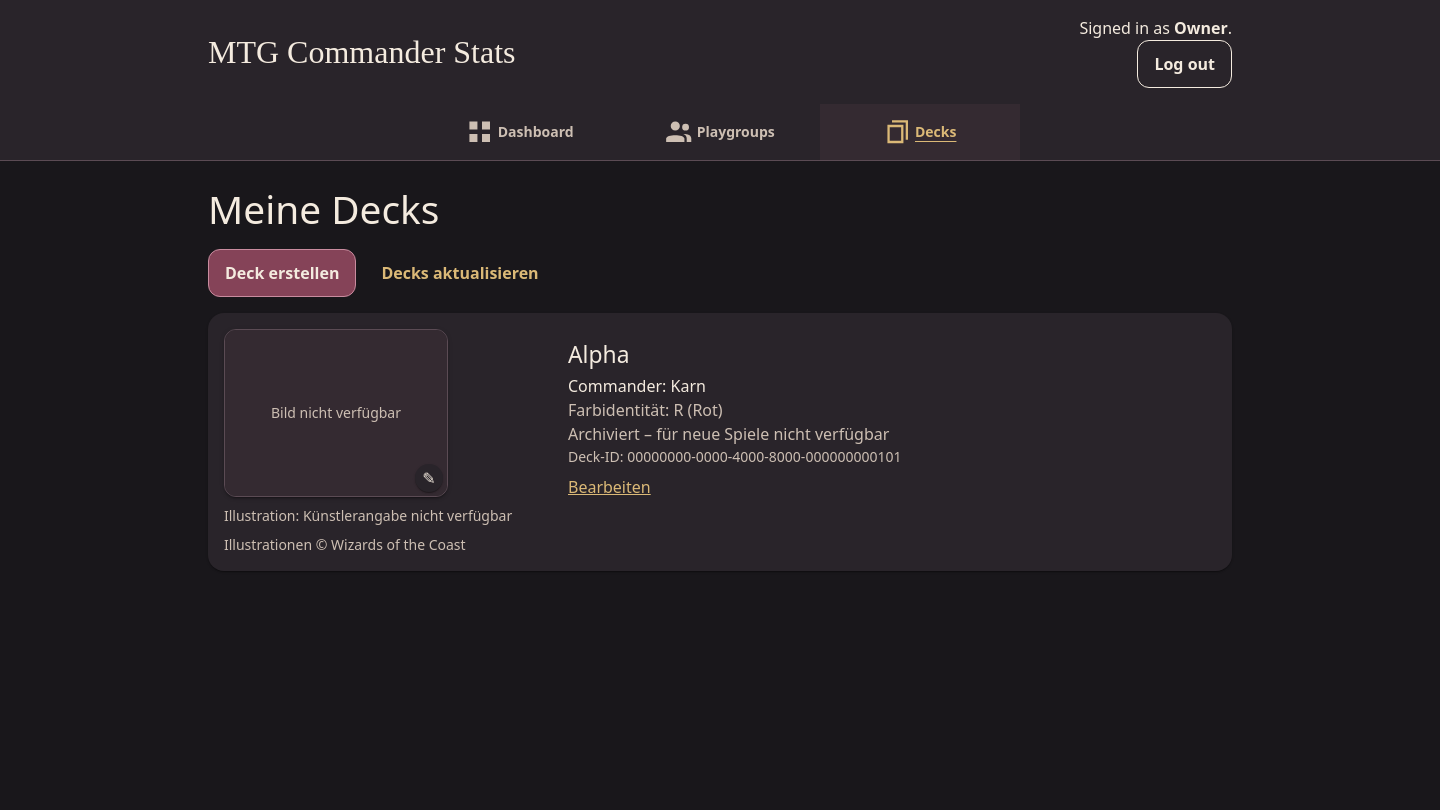
Test: lifecycle used=true archived=true allows exactly null and correct editable fields
This screenshot has width=1440, height=810.
Step 1. Click the button with aria-label "Alpha bearbeiten" → x=599, y=354, box [560, 329, 1216, 507]
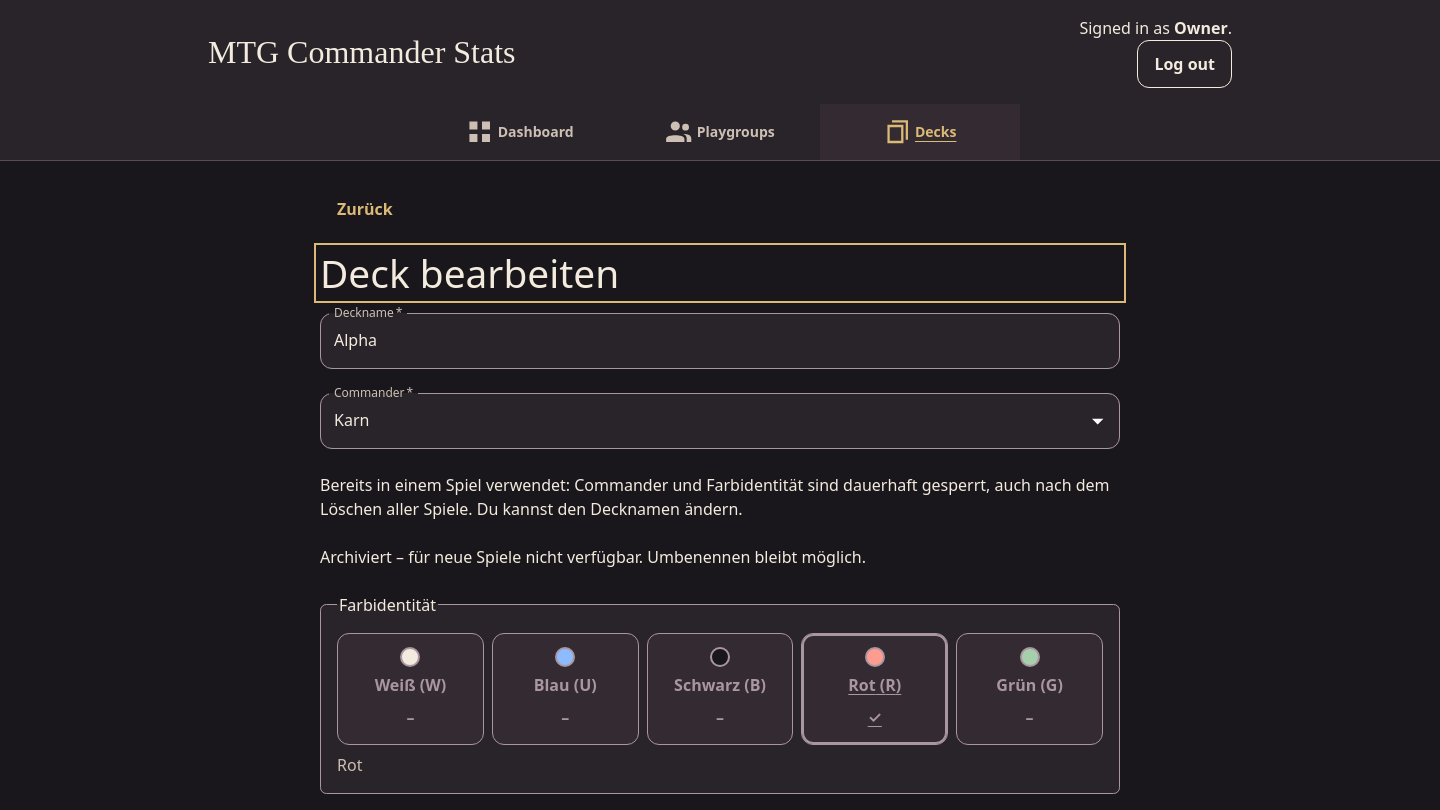
Check: the button "Rot (R) ✓" is disabled, box [801, 633, 948, 745]
Step 2. Replace the text in the field labelled "Deckname *" with "Renamed" → x=720, y=341, box [320, 313, 1120, 369]
(page scrolled)
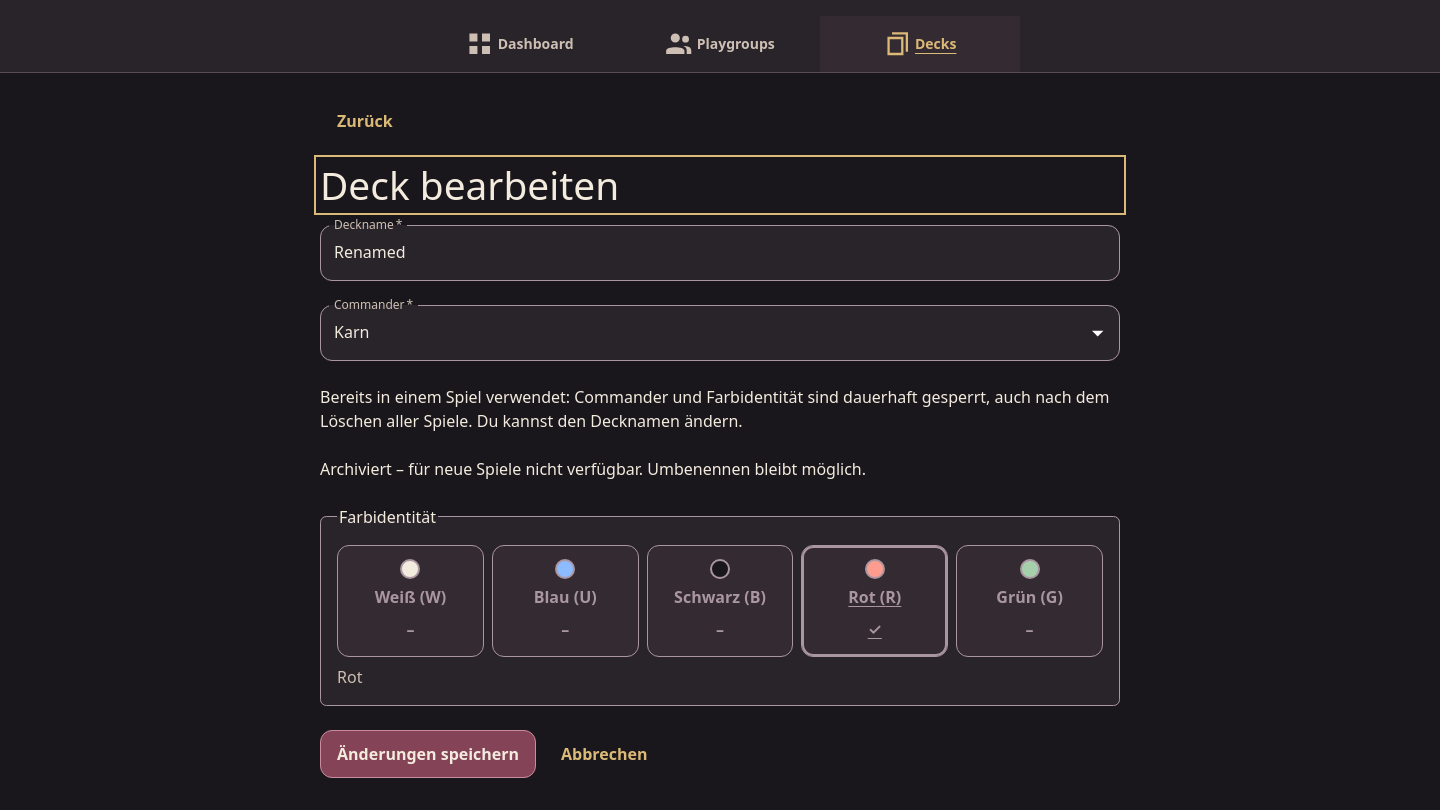
Step 3. Click the button "Änderungen speichern" → x=428, y=754, box [320, 730, 536, 778]
(page scrolled)
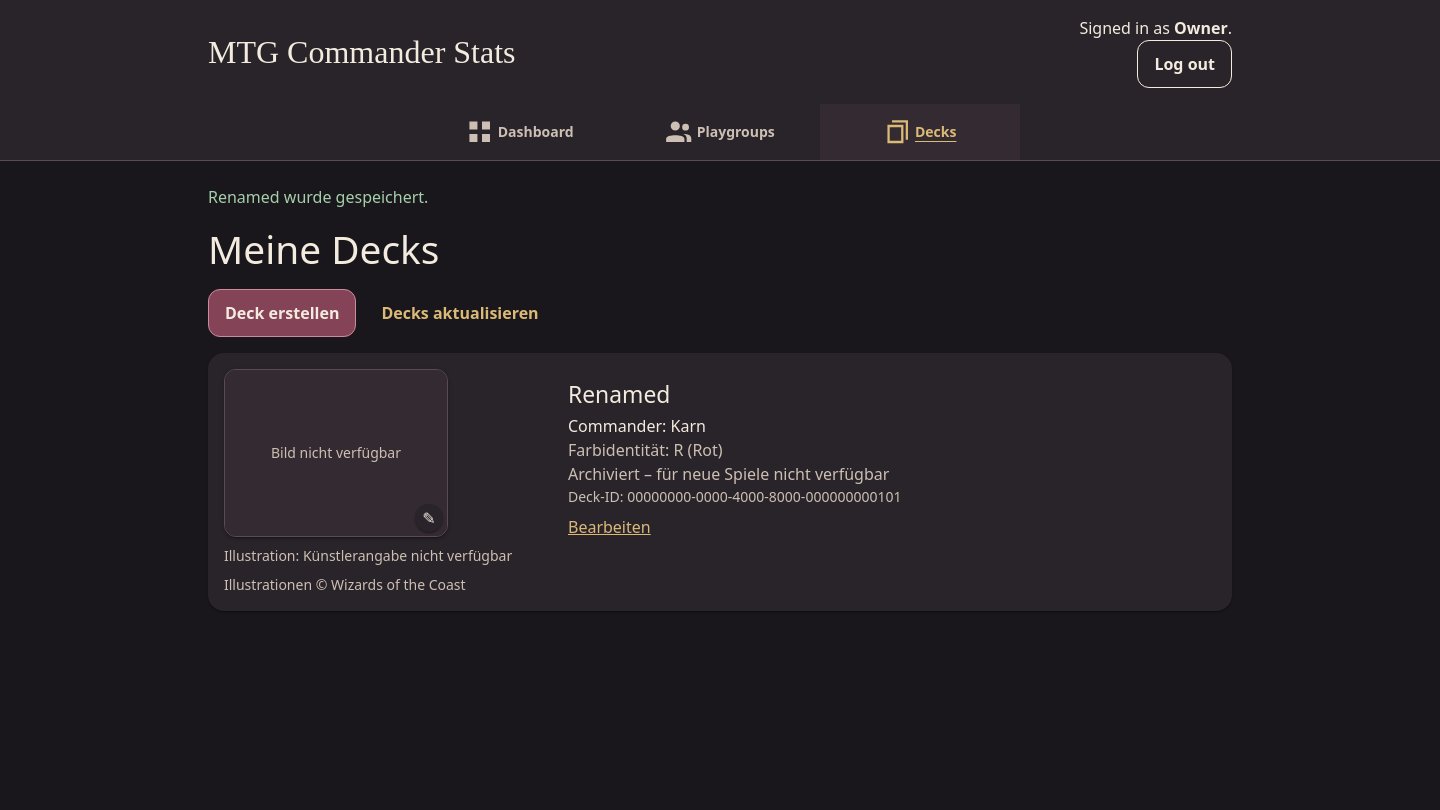
Check: the text "Renamed wurde gespeichert." is shown, box [208, 186, 428, 208]
